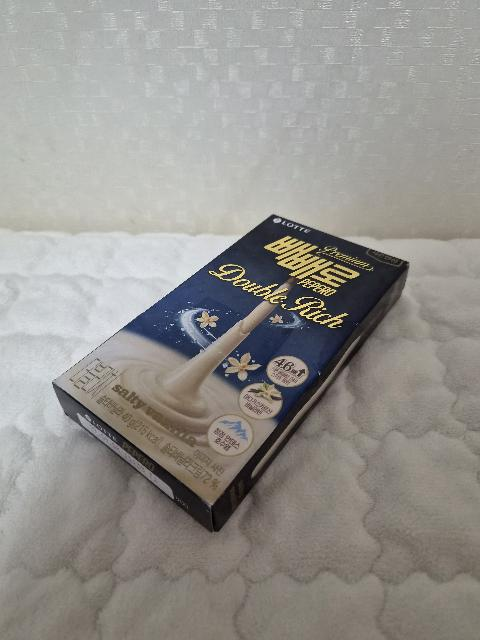pepero: (52, 213, 410, 533)
